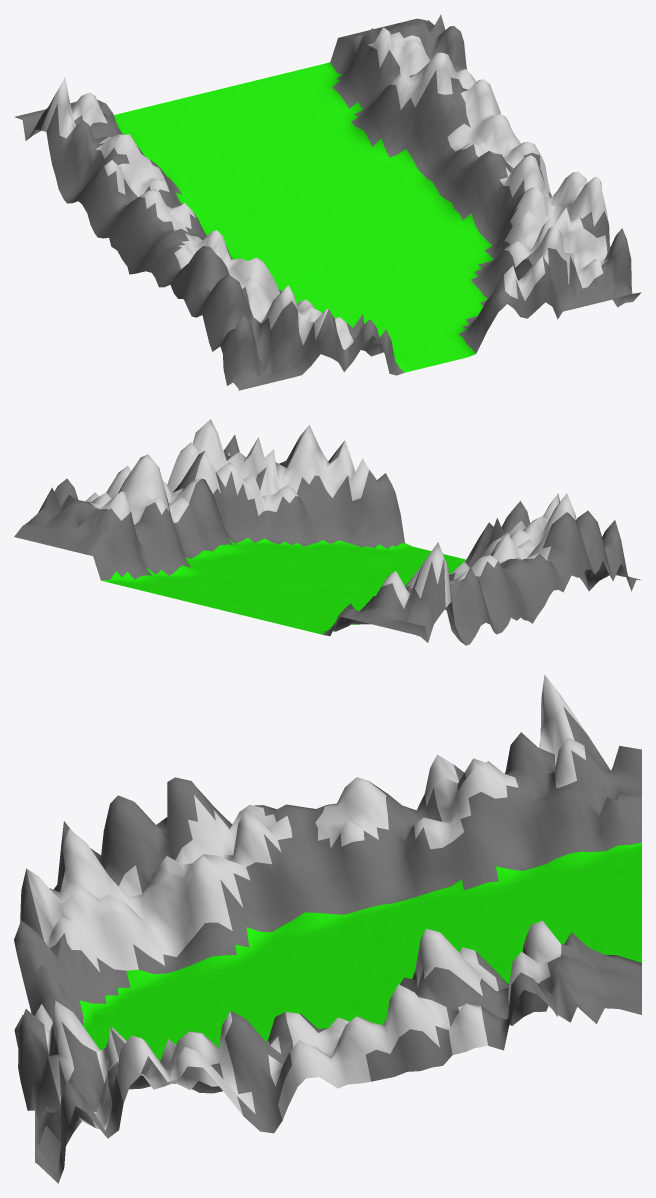
Rendered from HillEndJapan.fbx.
The picture shows the model from 3 angles, top to bottom: view 1: azimuth 30°, elevation 25°; view 2: azimuth 150°, elevation 25°; view 3: azimuth 270°, elevation 25°; orthographic projection. The views are drawn at different scales.
Parts seen in each view (by area): view 1: HillPart1; view 2: HillPart1; view 3: HillPart1.
Boxes of the visible parts, x1,y1,x2,y2 form: HillPart1: [15, 14, 641, 390]; HillPart1: [14, 419, 640, 645]; HillPart1: [14, 674, 641, 1183].
Size of the model in its own units: 15106 by 6968 by 14989.
